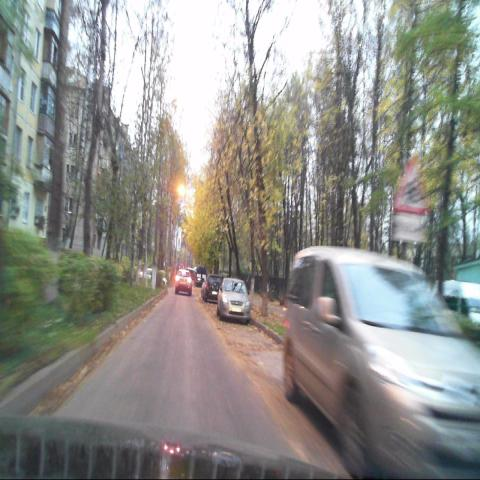1_23: (393, 155, 429, 215)
